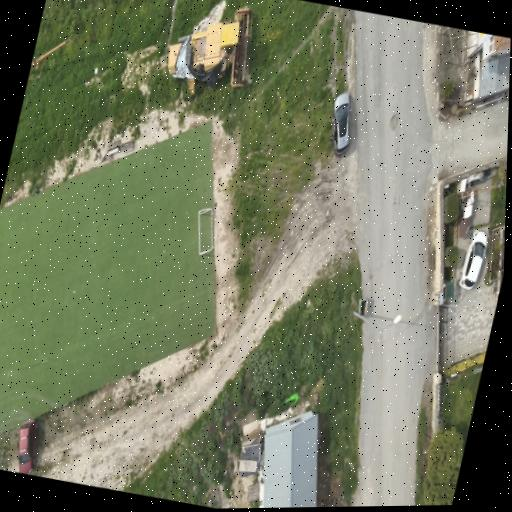car: (459, 230, 488, 290), (331, 93, 350, 155), (18, 420, 36, 473)
harvester: (167, 7, 252, 91)
